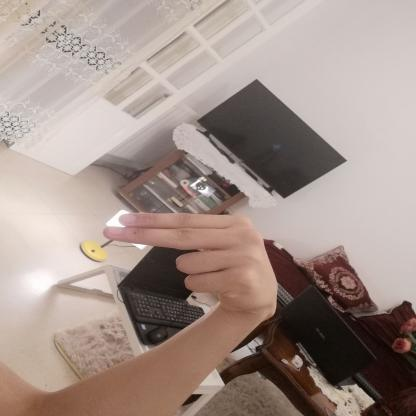AYN: (93, 206, 294, 324)
